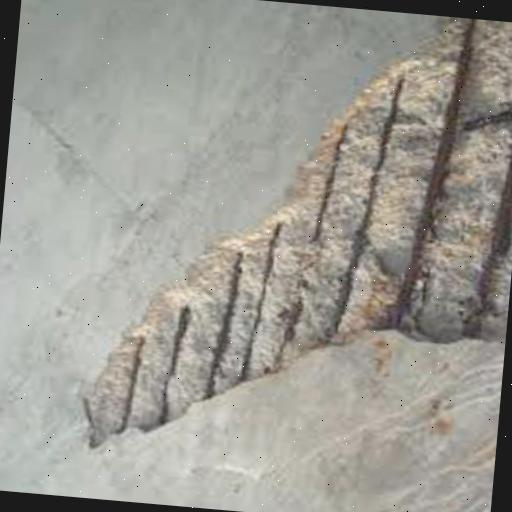spalling: (83, 17, 512, 449)
